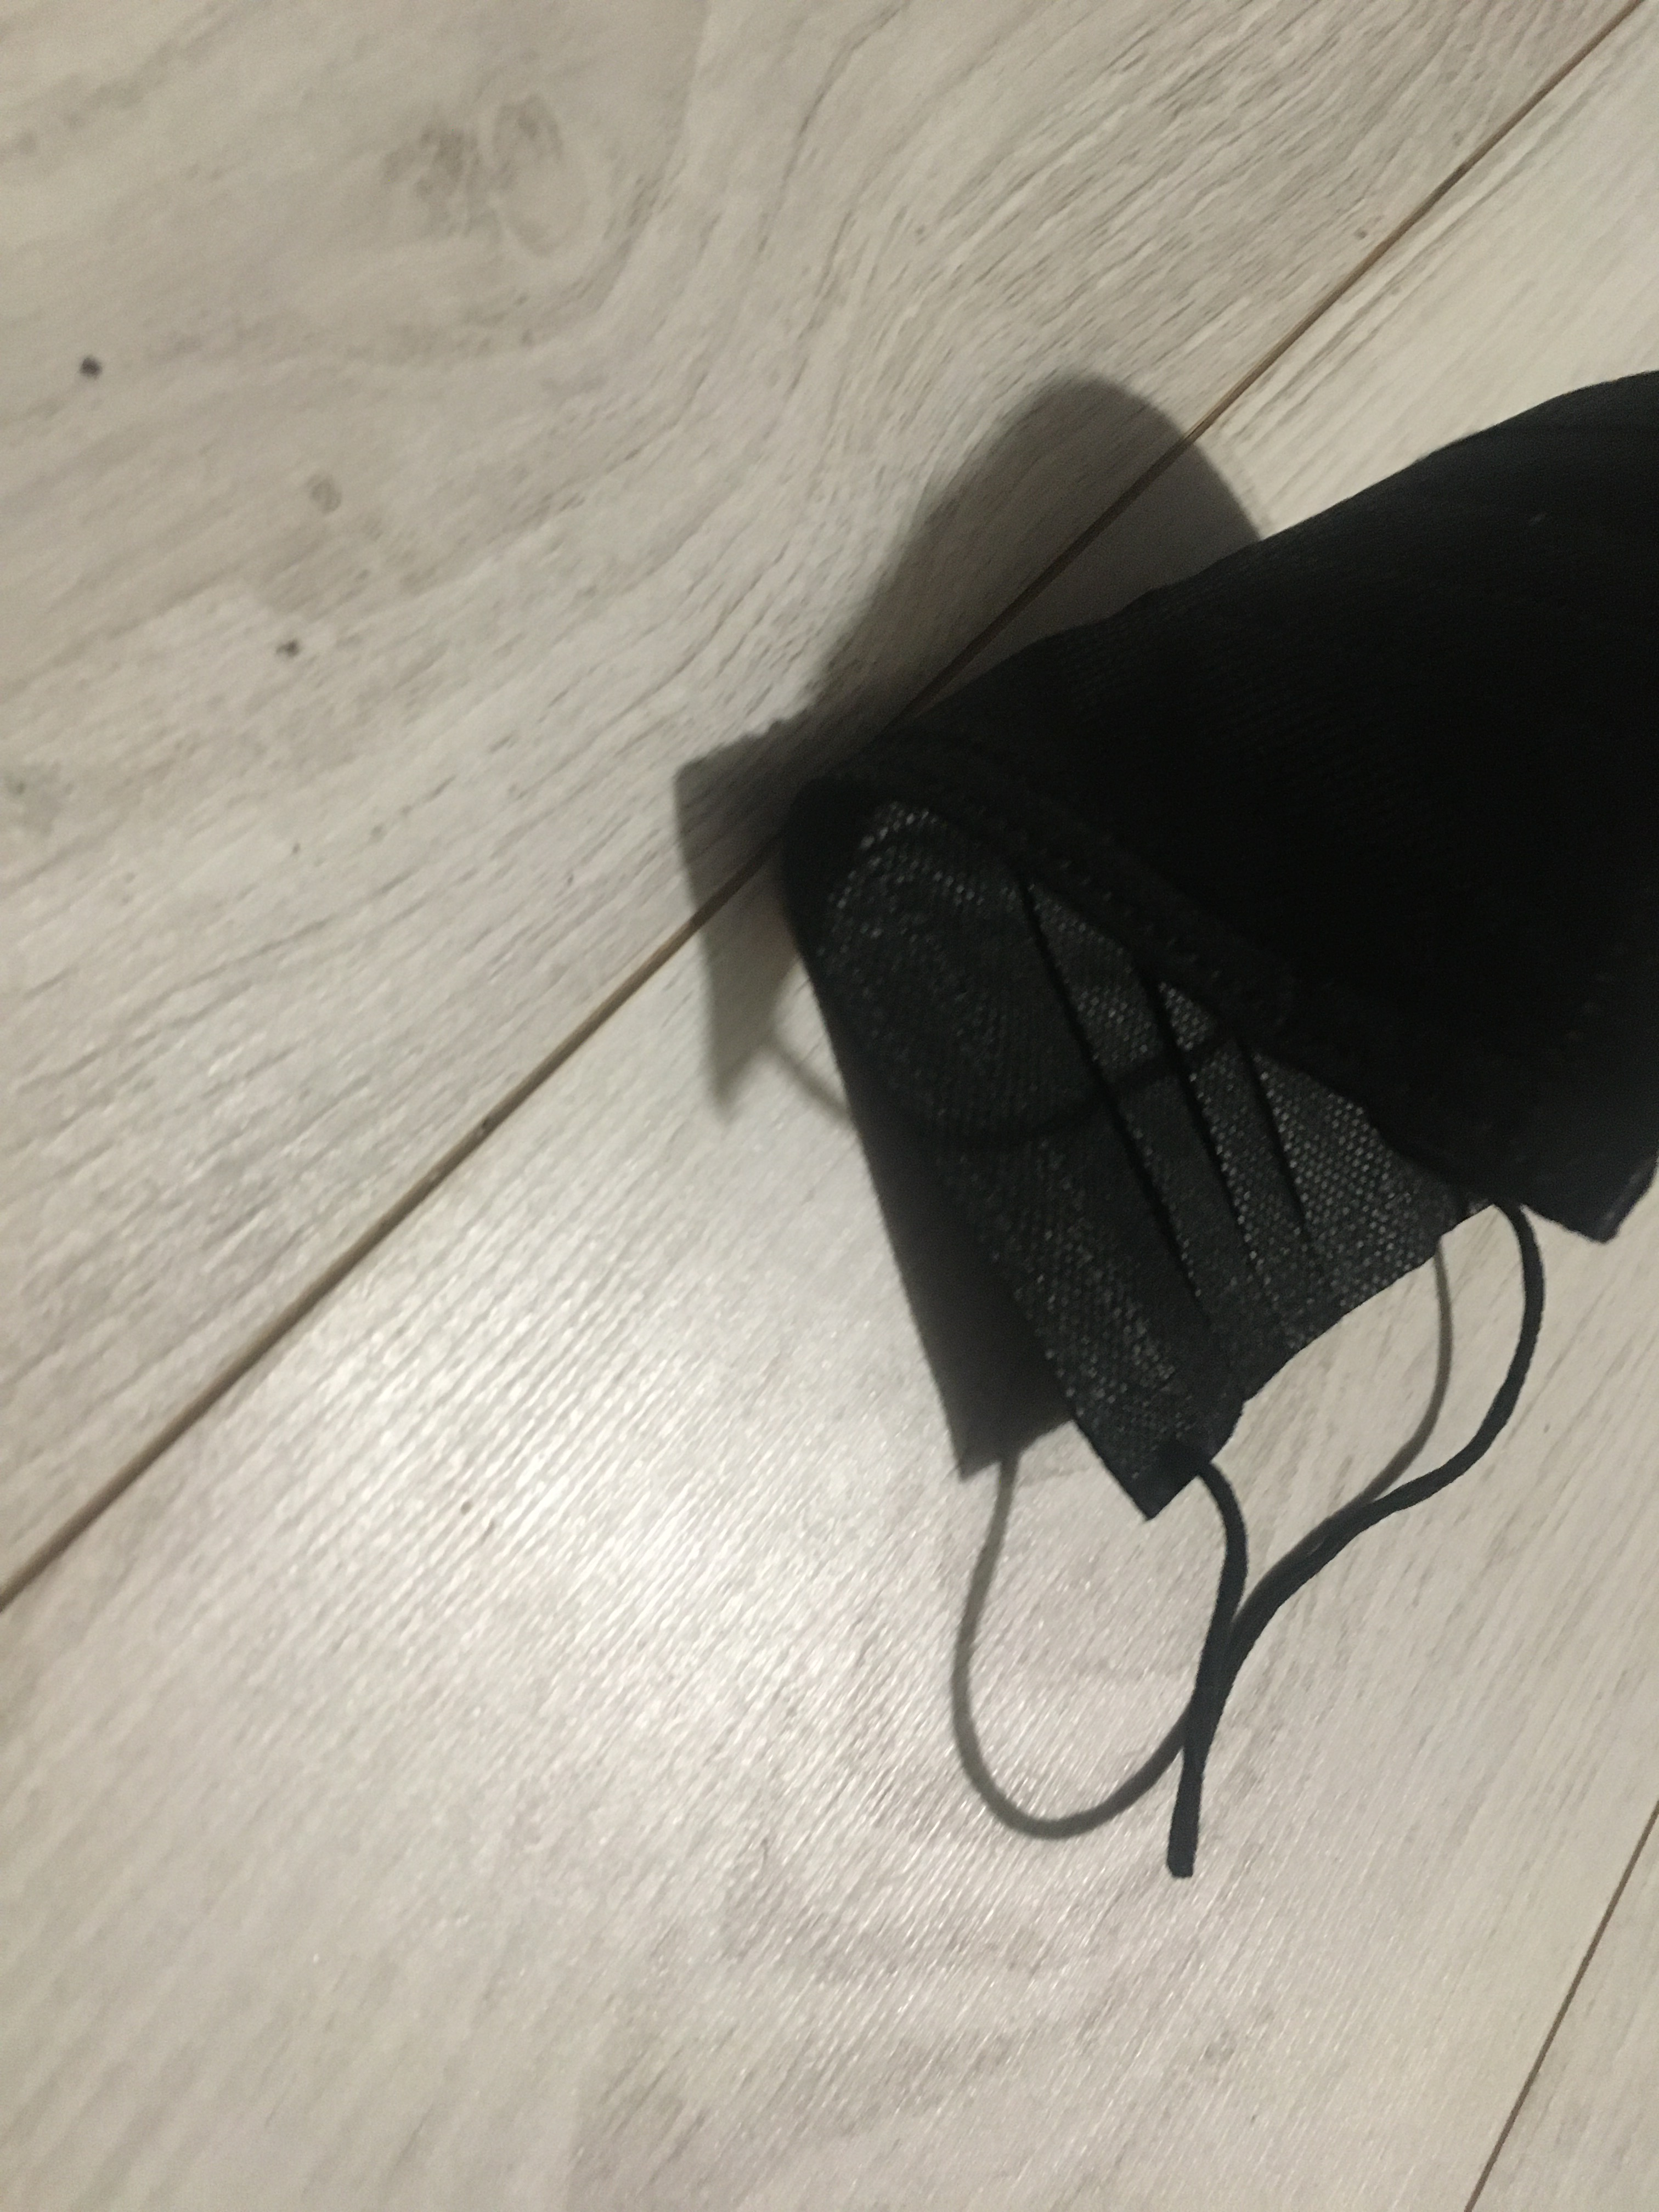trash: (746, 366, 1659, 1879)
